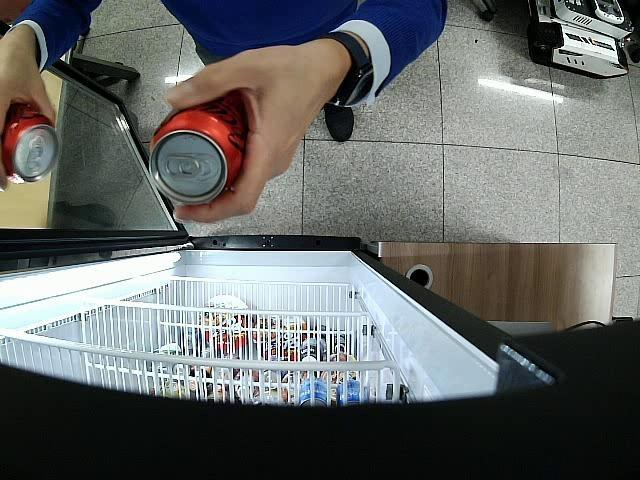11_cocaColaZero: (150, 90, 248, 204), (1, 102, 59, 184)
